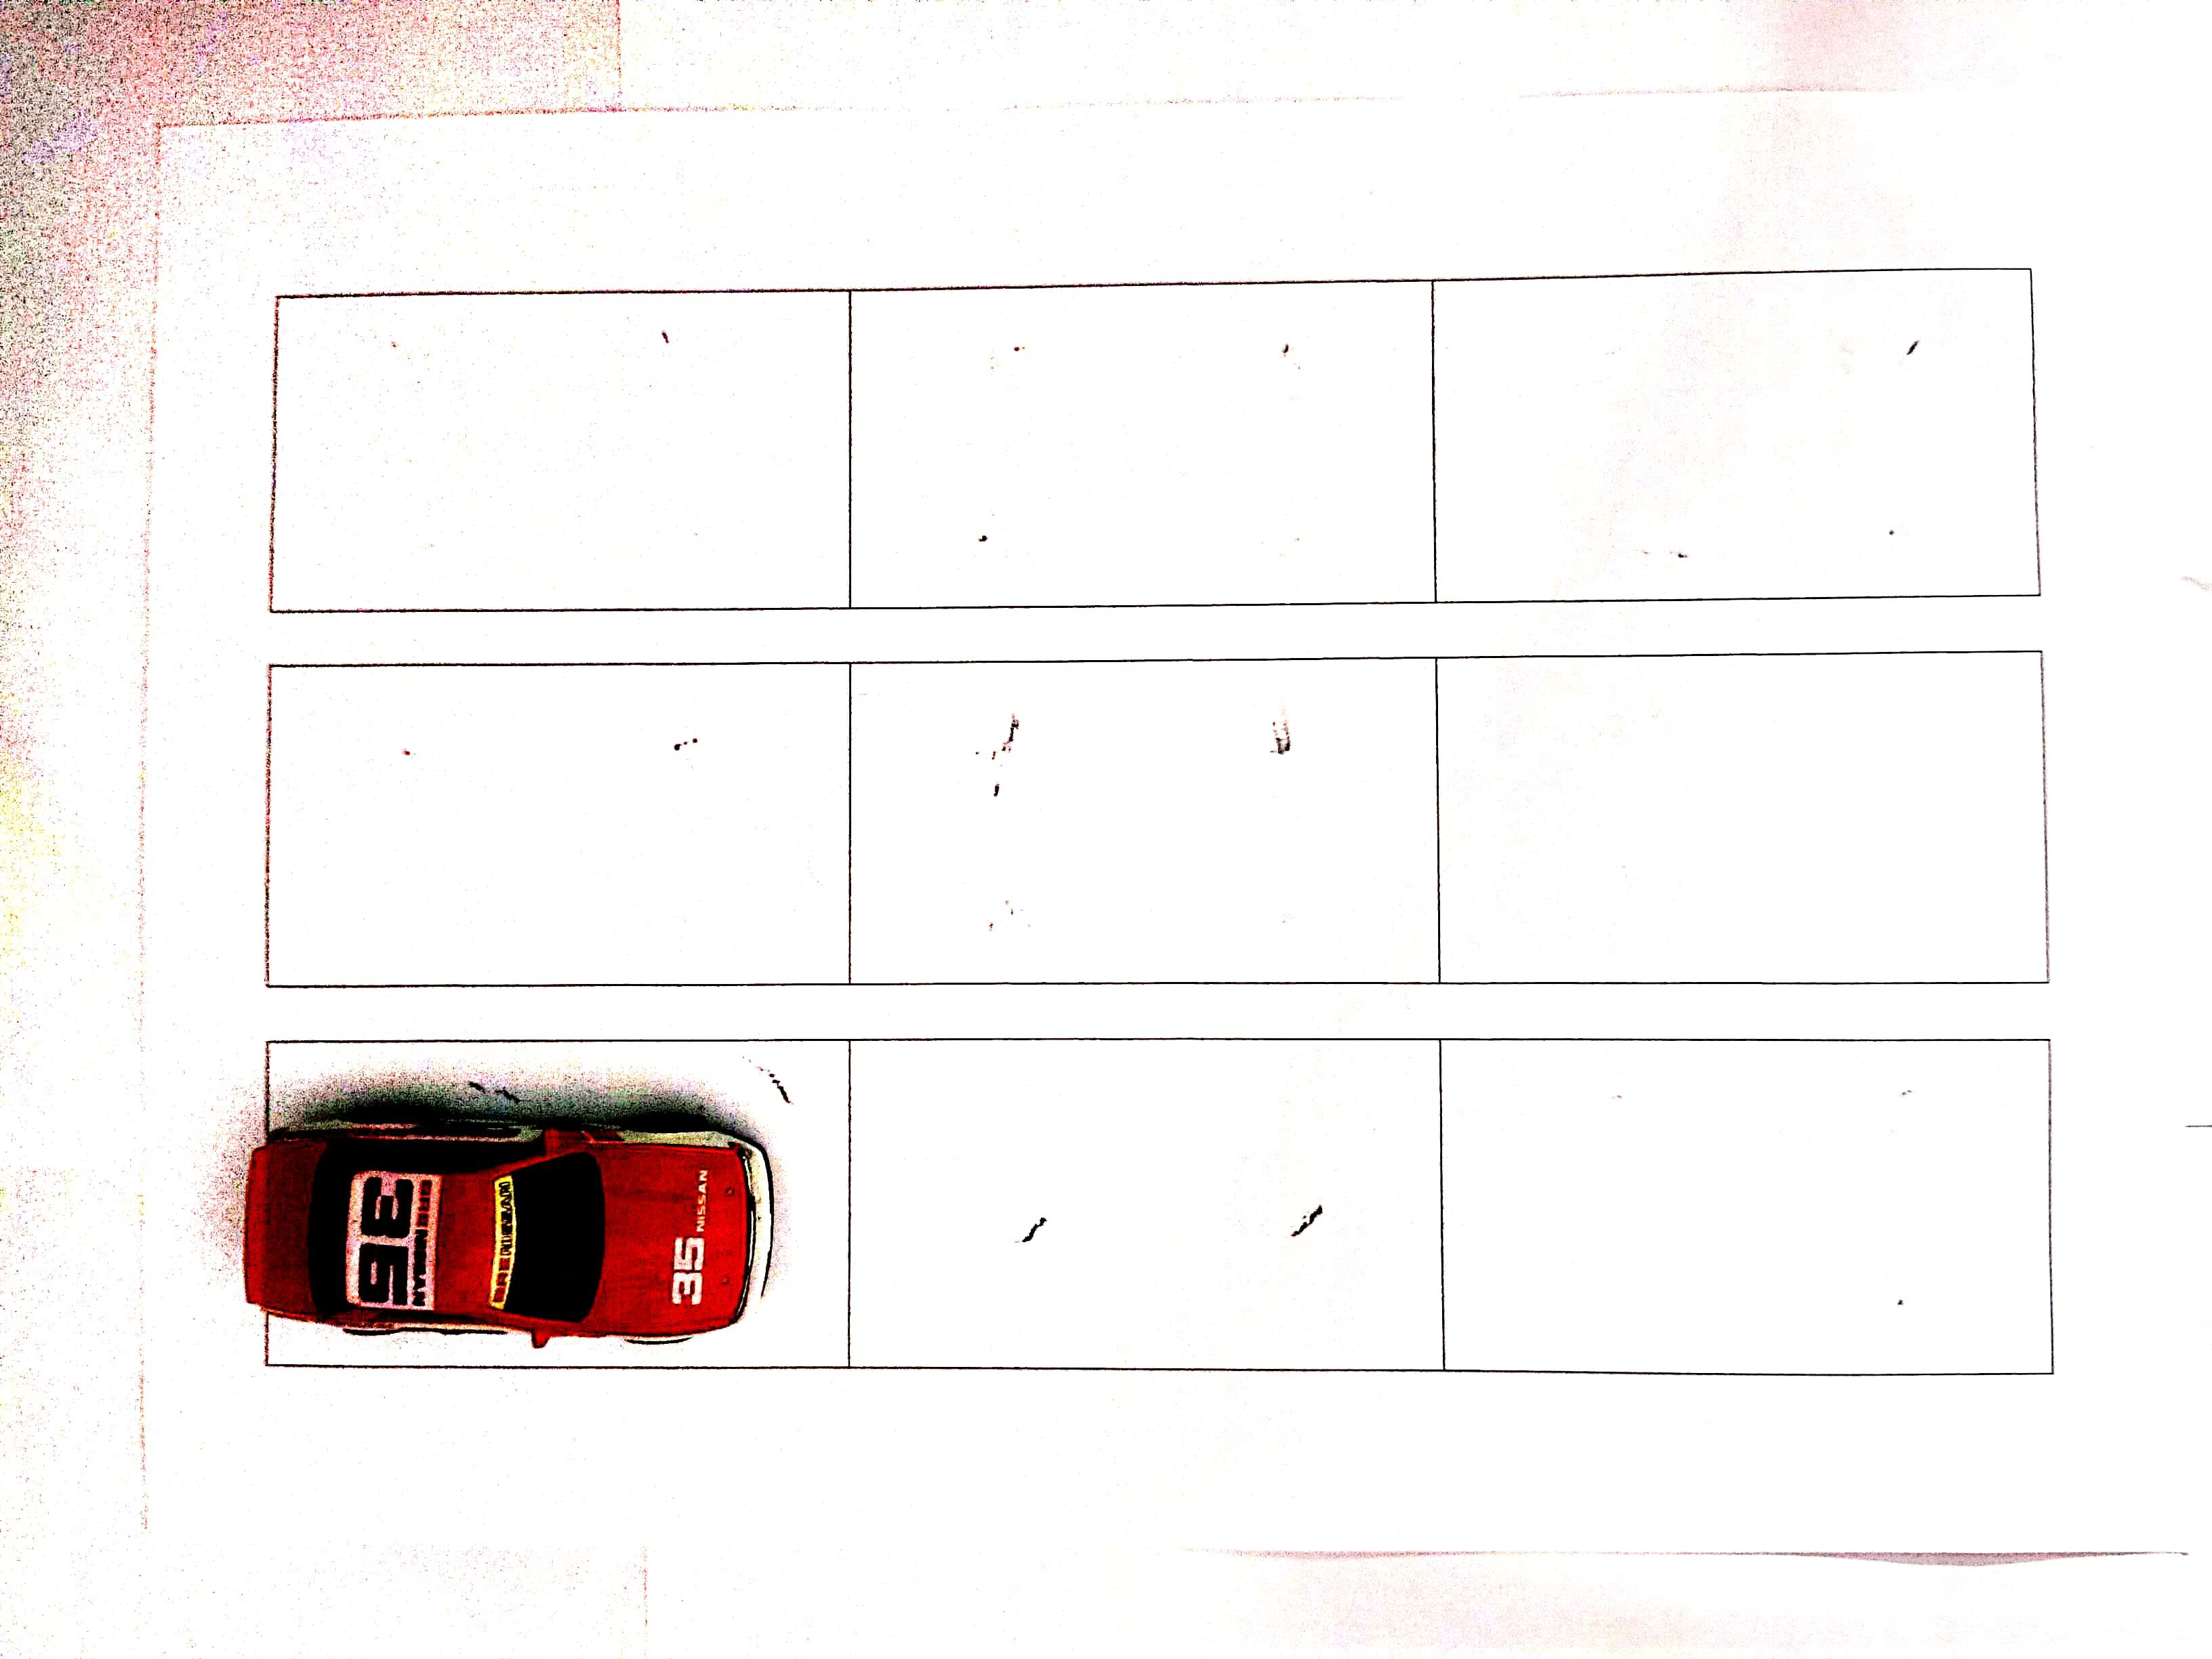Busy: (265, 1037, 845, 1370)
Free: (1433, 650, 2047, 979), (1433, 1040, 2050, 1366), (1433, 267, 2034, 594), (843, 659, 1432, 988), (848, 1037, 1437, 1366), (852, 281, 1433, 603), (268, 666, 848, 985), (273, 300, 848, 603)
